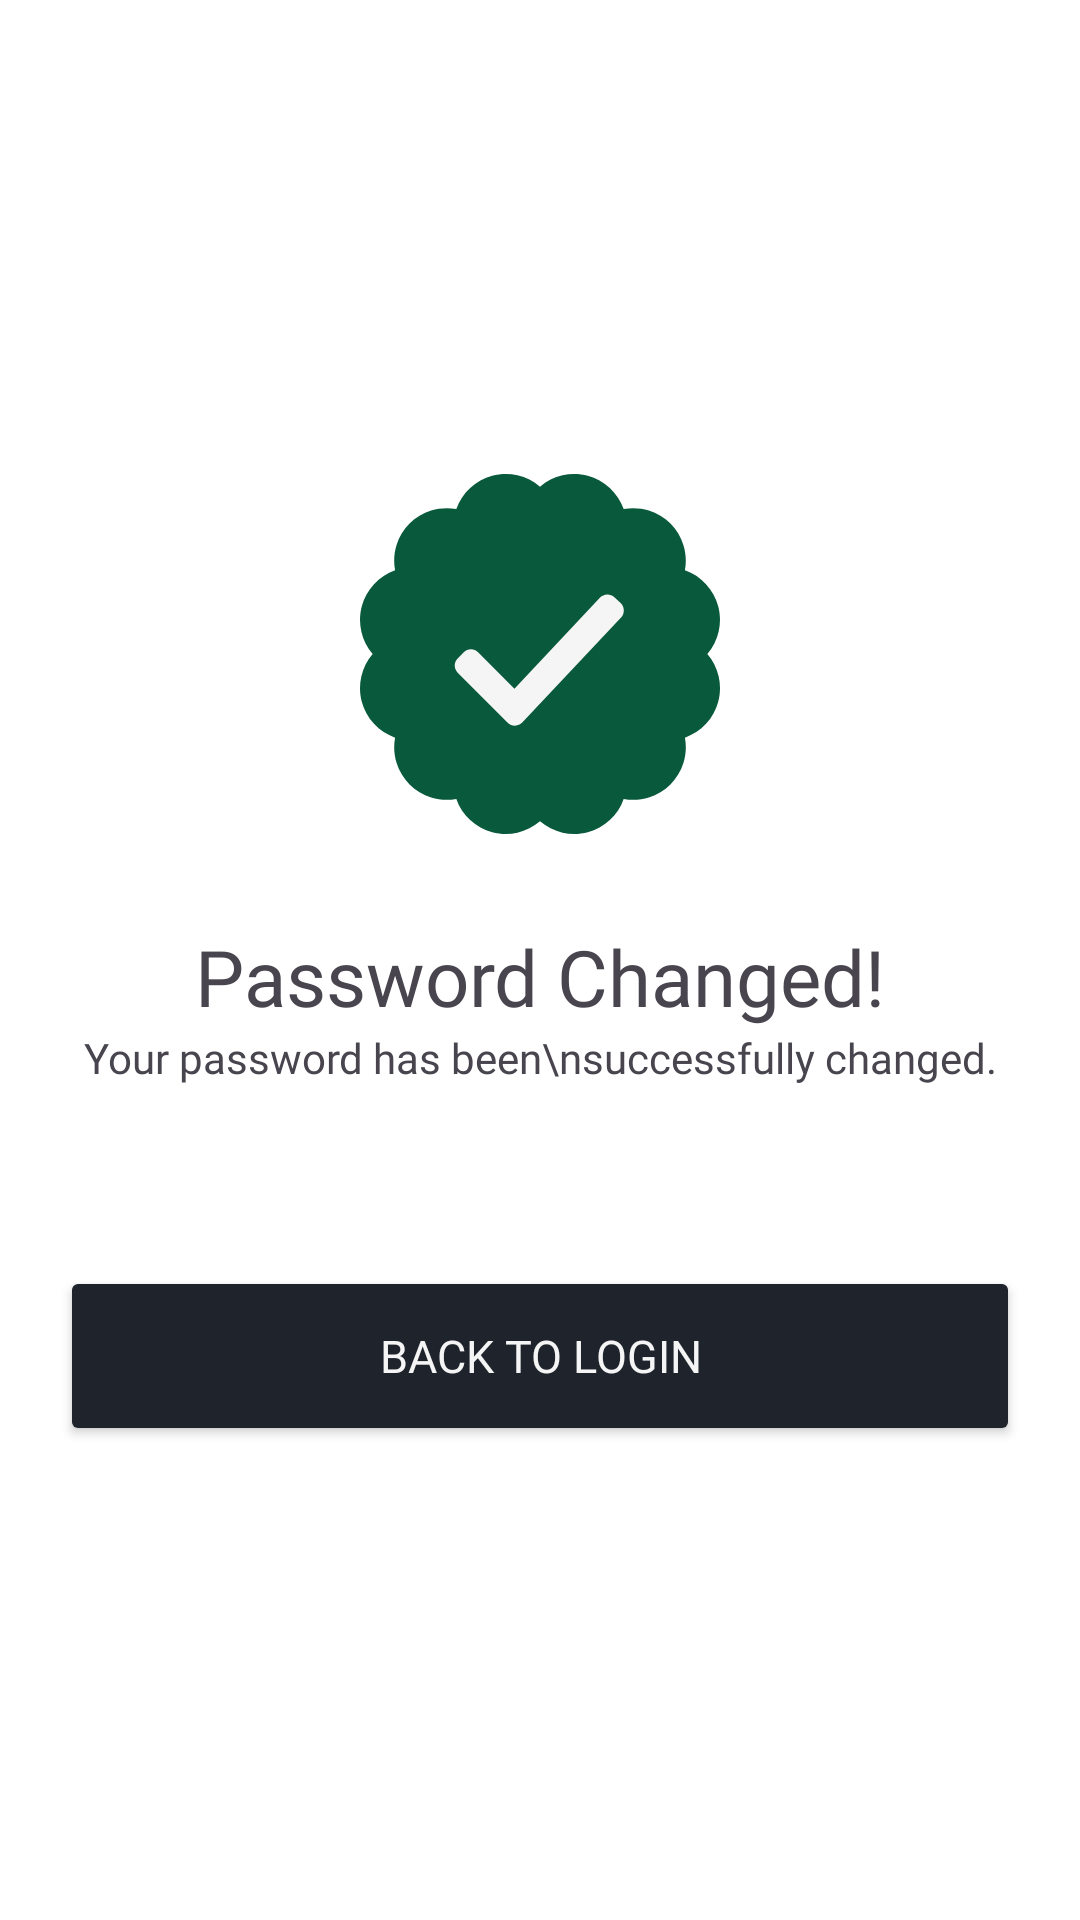

Locate icon controls on the screen. Image size 1080px×1920px, boxes as (x1, y1, x2, y2).
successmark: (360, 474, 720, 834)
